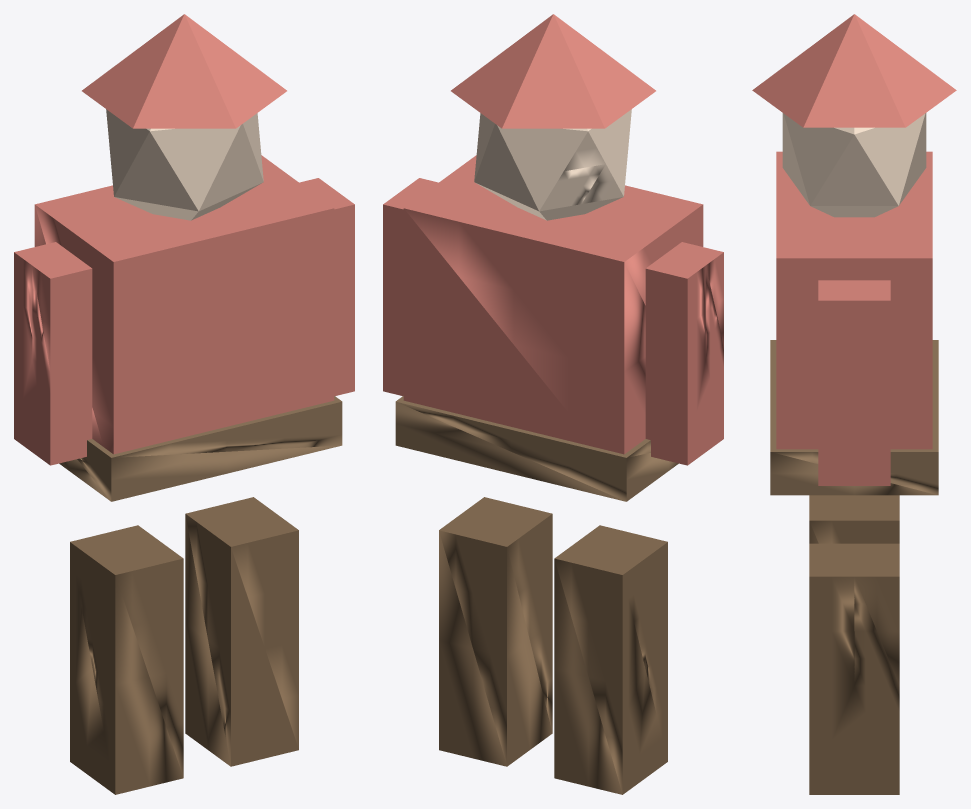
The model's file is settler.glb.
3 renders of one model, left to right at view 1: azimuth 30°, elevation 25°; view 2: azimuth 150°, elevation 25°; view 3: azimuth 270°, elevation 25°, orthographic.
Parts seen in each view (by area): view 1: SettlerLegL; view 2: SettlerLegL; view 3: SettlerLegL.
Boxes of the visible parts, x1,y1,x2,y2 form: SettlerLegL: (14, 14, 354, 794); SettlerLegL: (383, 14, 723, 794); SettlerLegL: (752, 14, 956, 794).
Size of the model in its own units: 0.58 by 1.35 by 0.34.
